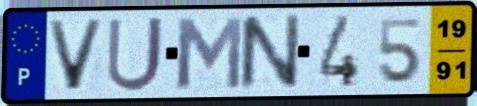4: (316, 13, 362, 89)
5: (375, 17, 424, 85)
M: (173, 15, 245, 92)
N: (236, 12, 303, 93)
U: (104, 14, 168, 94)
V: (44, 18, 109, 93)
